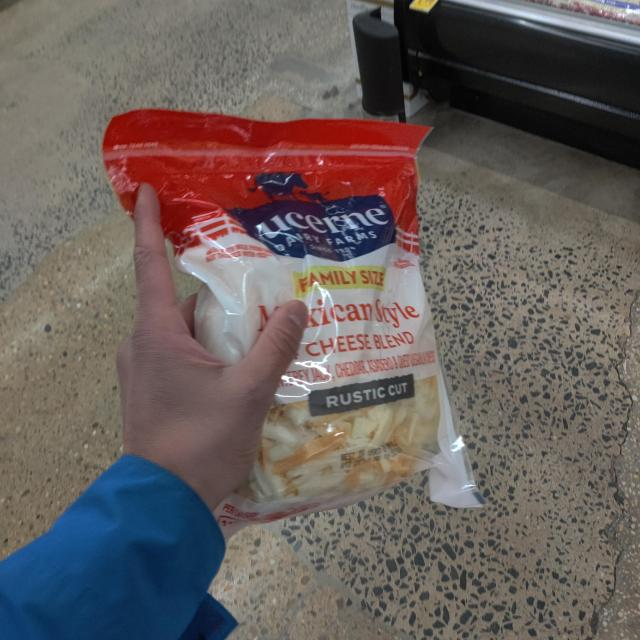Cheese: (99, 94, 507, 525)
